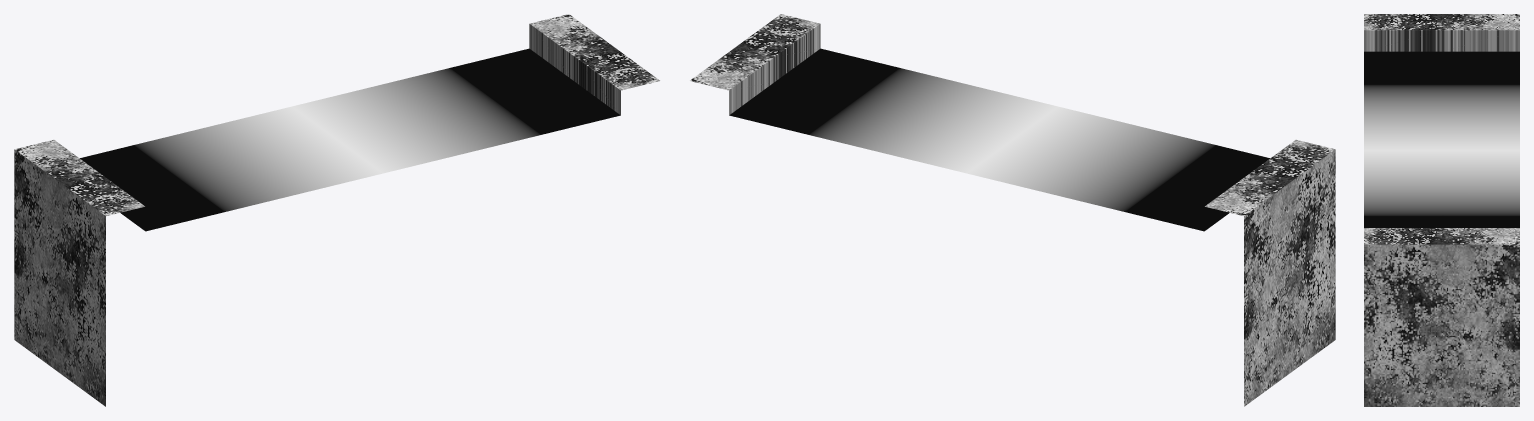
The model's file is concrete-section.glb.
3 renders of one model, left to right at view 1: azimuth 30°, elevation 25°; view 2: azimuth 150°, elevation 25°; view 3: azimuth 270°, elevation 25°, orthographic. The views are drawn at different scales.
Parts seen in each view (by area): view 1: concrete section; view 2: concrete section; view 3: concrete section.
Part boxes in pixels (<box>): concrete section: <box>14,14,659,406</box>; concrete section: <box>690,14,1335,406</box>; concrete section: <box>1364,14,1519,406</box>.
Size of the model in its own units: 7 by 2.3 by 2.
2 materials, 1 textured.
